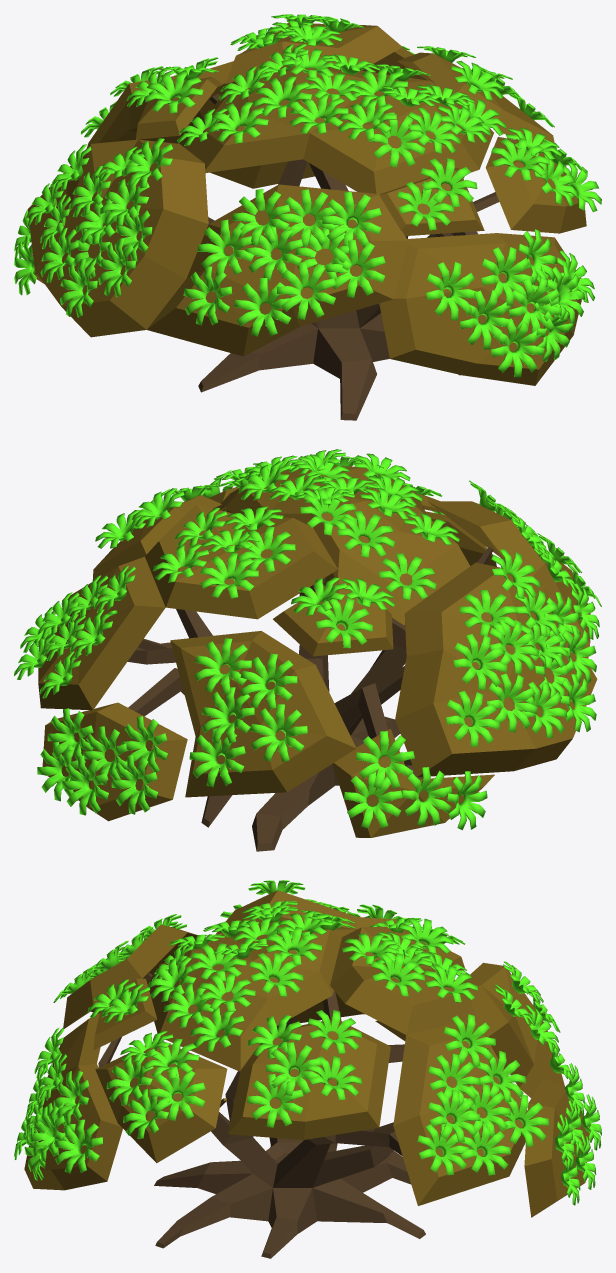
The model's file is Lantana2.fbx.
The picture shows the model from 3 angles, top to bottom: view 1: azimuth 30°, elevation 25°; view 2: azimuth 150°, elevation 25°; view 3: azimuth 270°, elevation 25°; orthographic projection. The views are drawn at different scales.
Visible parts, largest first — view 1: Lantana; view 2: Lantana; view 3: Lantana.
Boxes of the visible parts, x1,y1,x2,y2 form: Lantana: (14,14,601,420); Lantana: (14,449,601,851); Lantana: (14,880,601,1258).
Size of the model in its own units: 598 by 362 by 659.
